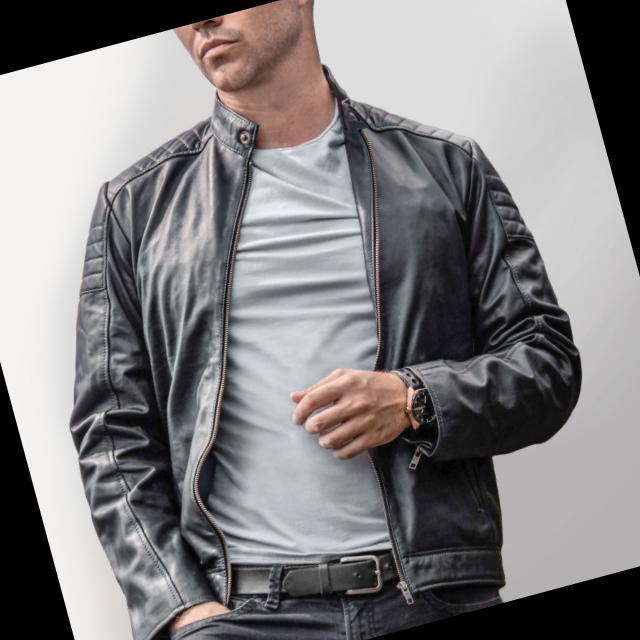Jacket: (0, 30, 639, 640)
